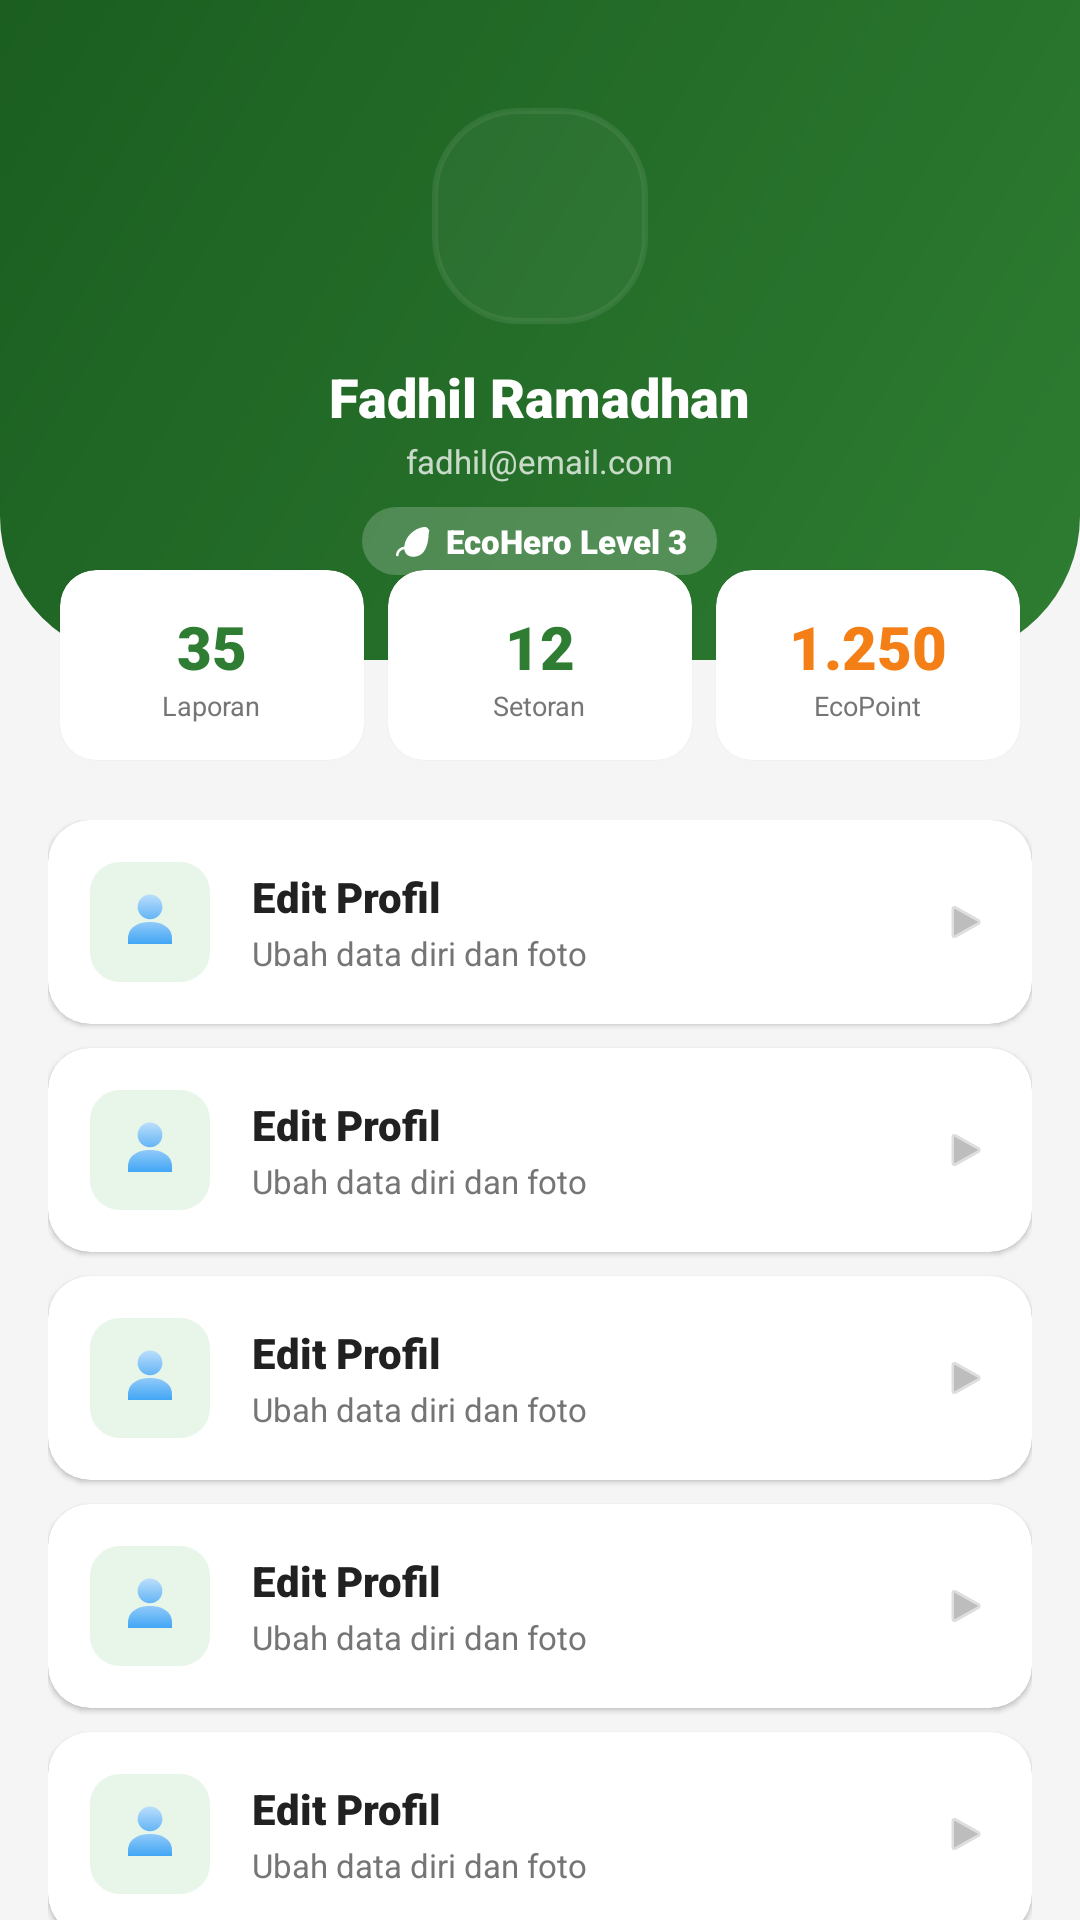

Point at icon controls on the screen. Image size 1080px×1920px, points as [x,y].
eco: [413,542]
person: [150,919], [150,1147], [150,1375], [150,1603], [150,1831]
play: [966,922], [966,1150], [966,1378], [966,1606], [966,1834]
